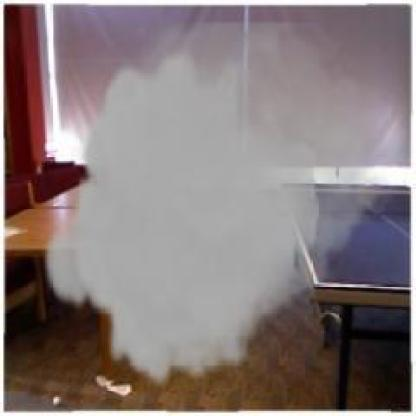Smoke: (41, 23, 396, 388)
